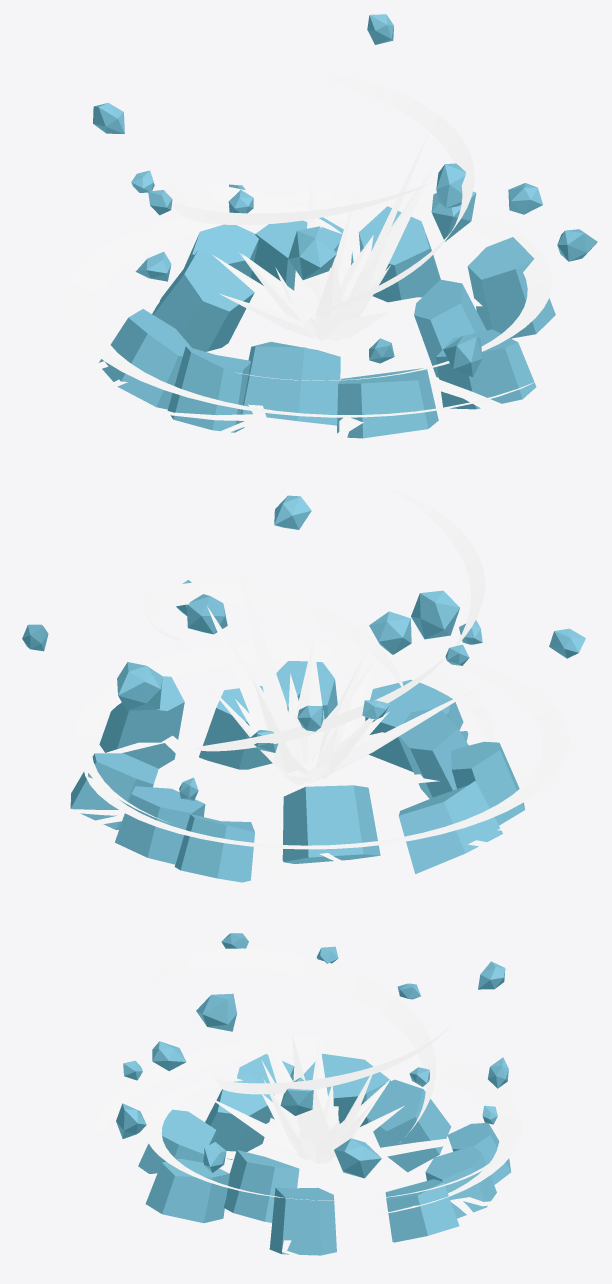
Rendered from GiantSword_Impact.glb.
3 views of the same model, one above another, from view 1: azimuth 30°, elevation 25°; view 2: azimuth 150°, elevation 25°; view 3: azimuth 270°, elevation 25° (orthographic). The views are drawn at different scales.
Visible parts, largest first — view 1: Impact_CraterSlabs_Exp, Impact_SwirlRibbons_Exp, Impact_RockDebris_Exp, Impact_BaseFlash_Exp, Impact_GroundFissure_Exp; view 2: Impact_CraterSlabs_Exp, Impact_SwirlRibbons_Exp, Impact_BaseFlash_Exp, Impact_RockDebris_Exp, Impact_GroundFissure_Exp; view 3: Impact_CraterSlabs_Exp, Impact_SwirlRibbons_Exp, Impact_RockDebris_Exp, Impact_BaseFlash_Exp, Impact_GroundFissure_Exp.
Part boxes in pixels (x1,y1,x2,y2): Impact_CraterSlabs_Exp: [99, 206, 555, 438]; Impact_SwirlRibbons_Exp: [64, 69, 552, 417]; Impact_RockDebris_Exp: [93, 14, 597, 377]; Impact_BaseFlash_Exp: [213, 132, 434, 341]; Impact_GroundFissure_Exp: [14, 187, 591, 458]; Impact_CraterSlabs_Exp: [70, 661, 524, 882]; Impact_SwirlRibbons_Exp: [74, 487, 569, 849]; Impact_BaseFlash_Exp: [207, 555, 483, 785]; Impact_RockDebris_Exp: [22, 495, 585, 800]; Impact_GroundFissure_Exp: [14, 635, 597, 904]; Impact_CraterSlabs_Exp: [138, 1053, 510, 1255]; Impact_SwirlRibbons_Exp: [94, 948, 521, 1217]; Impact_RockDebris_Exp: [116, 933, 508, 1178]; Impact_BaseFlash_Exp: [207, 1015, 404, 1164]; Impact_GroundFissure_Exp: [14, 1057, 597, 1269].
Bounding box in the file's own units: 6.08 × 2.7 × 6.67.
